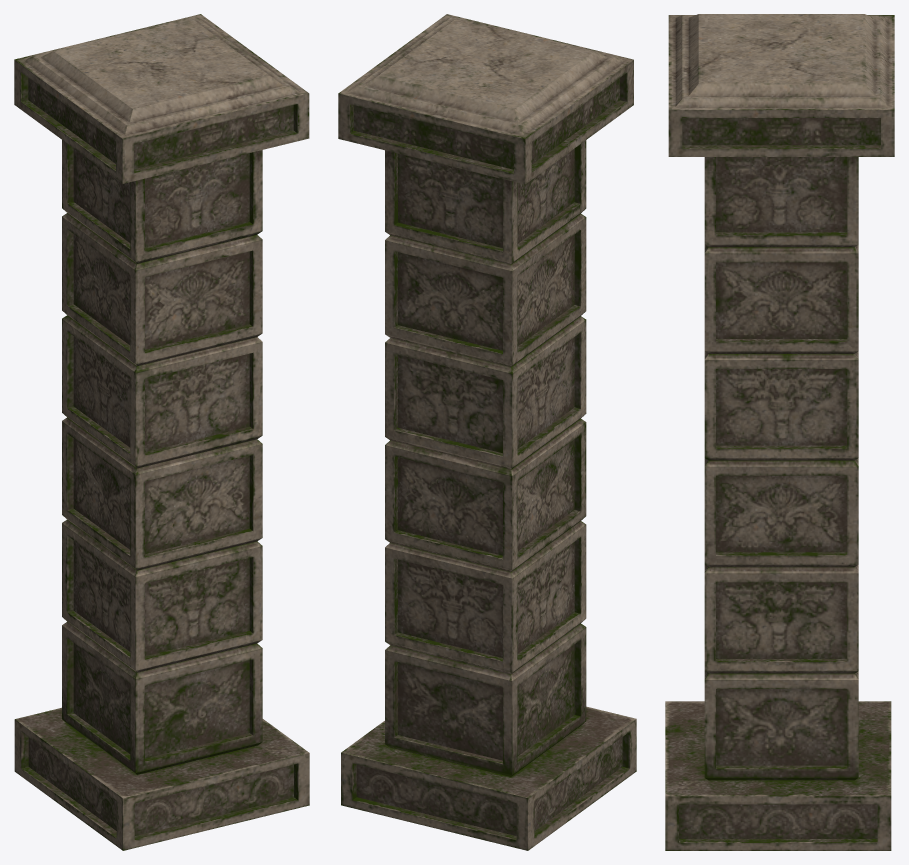
File: ancient_stone_pillar_a.glb
3 views of the same model, side by side, from view 1: azimuth 30°, elevation 25°; view 2: azimuth 150°, elevation 25°; view 3: azimuth 270°, elevation 25° (orthographic). The views are drawn at different scales.
Parts seen in each view (by area): view 1: stone_pillar_LP__0; view 2: stone_pillar_LP__0; view 3: stone_pillar_LP__0.
Boxes of the visible parts, x1,y1,x2,y2 form: stone_pillar_LP__0: (14,14,309,850); stone_pillar_LP__0: (338,14,636,850); stone_pillar_LP__0: (665,14,894,850).
Size of the model in its own units: 0.7434 by 2.74 by 0.7542.
Materials: 1 (1 with a texture image).
